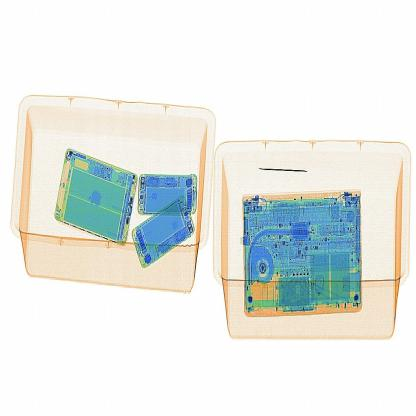wrench: (252, 150, 322, 184)
